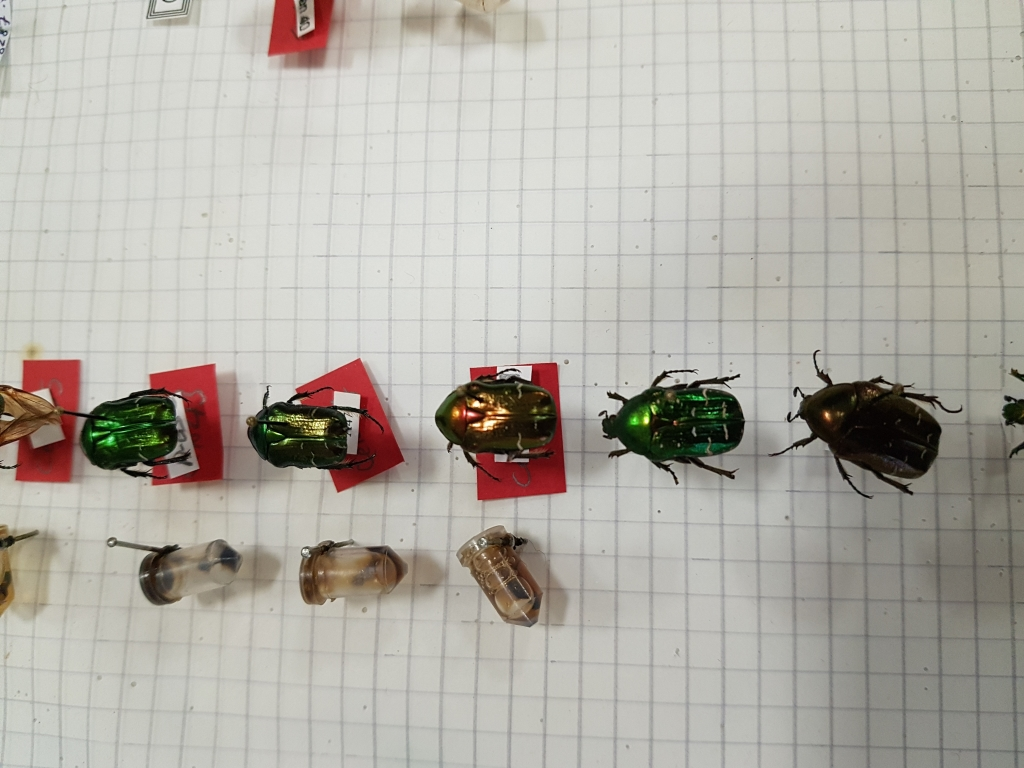Cetonia_kemali: (589, 361, 755, 480), (236, 372, 378, 484), (434, 366, 571, 481), (79, 385, 203, 484)
